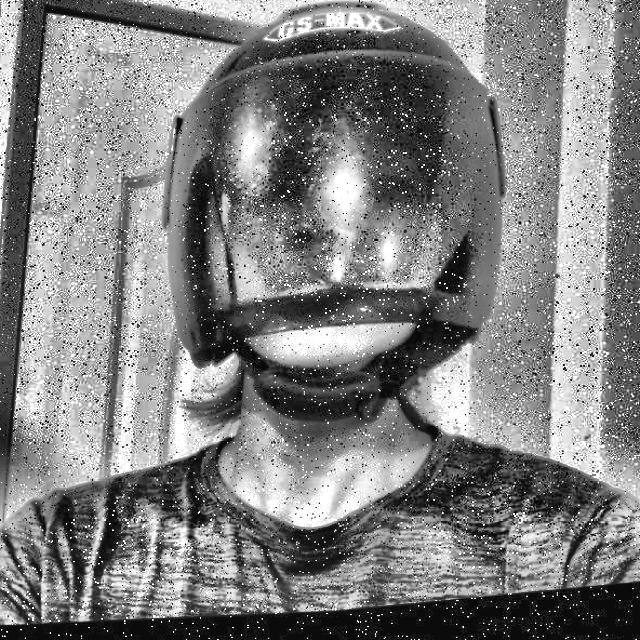Helmet: (135, 0, 528, 463)
